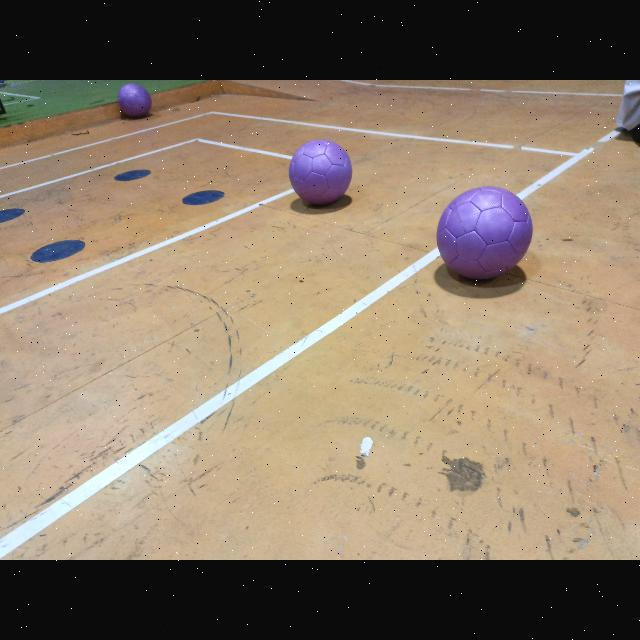P: (436, 187, 532, 279), (290, 140, 352, 204), (118, 83, 150, 117)
